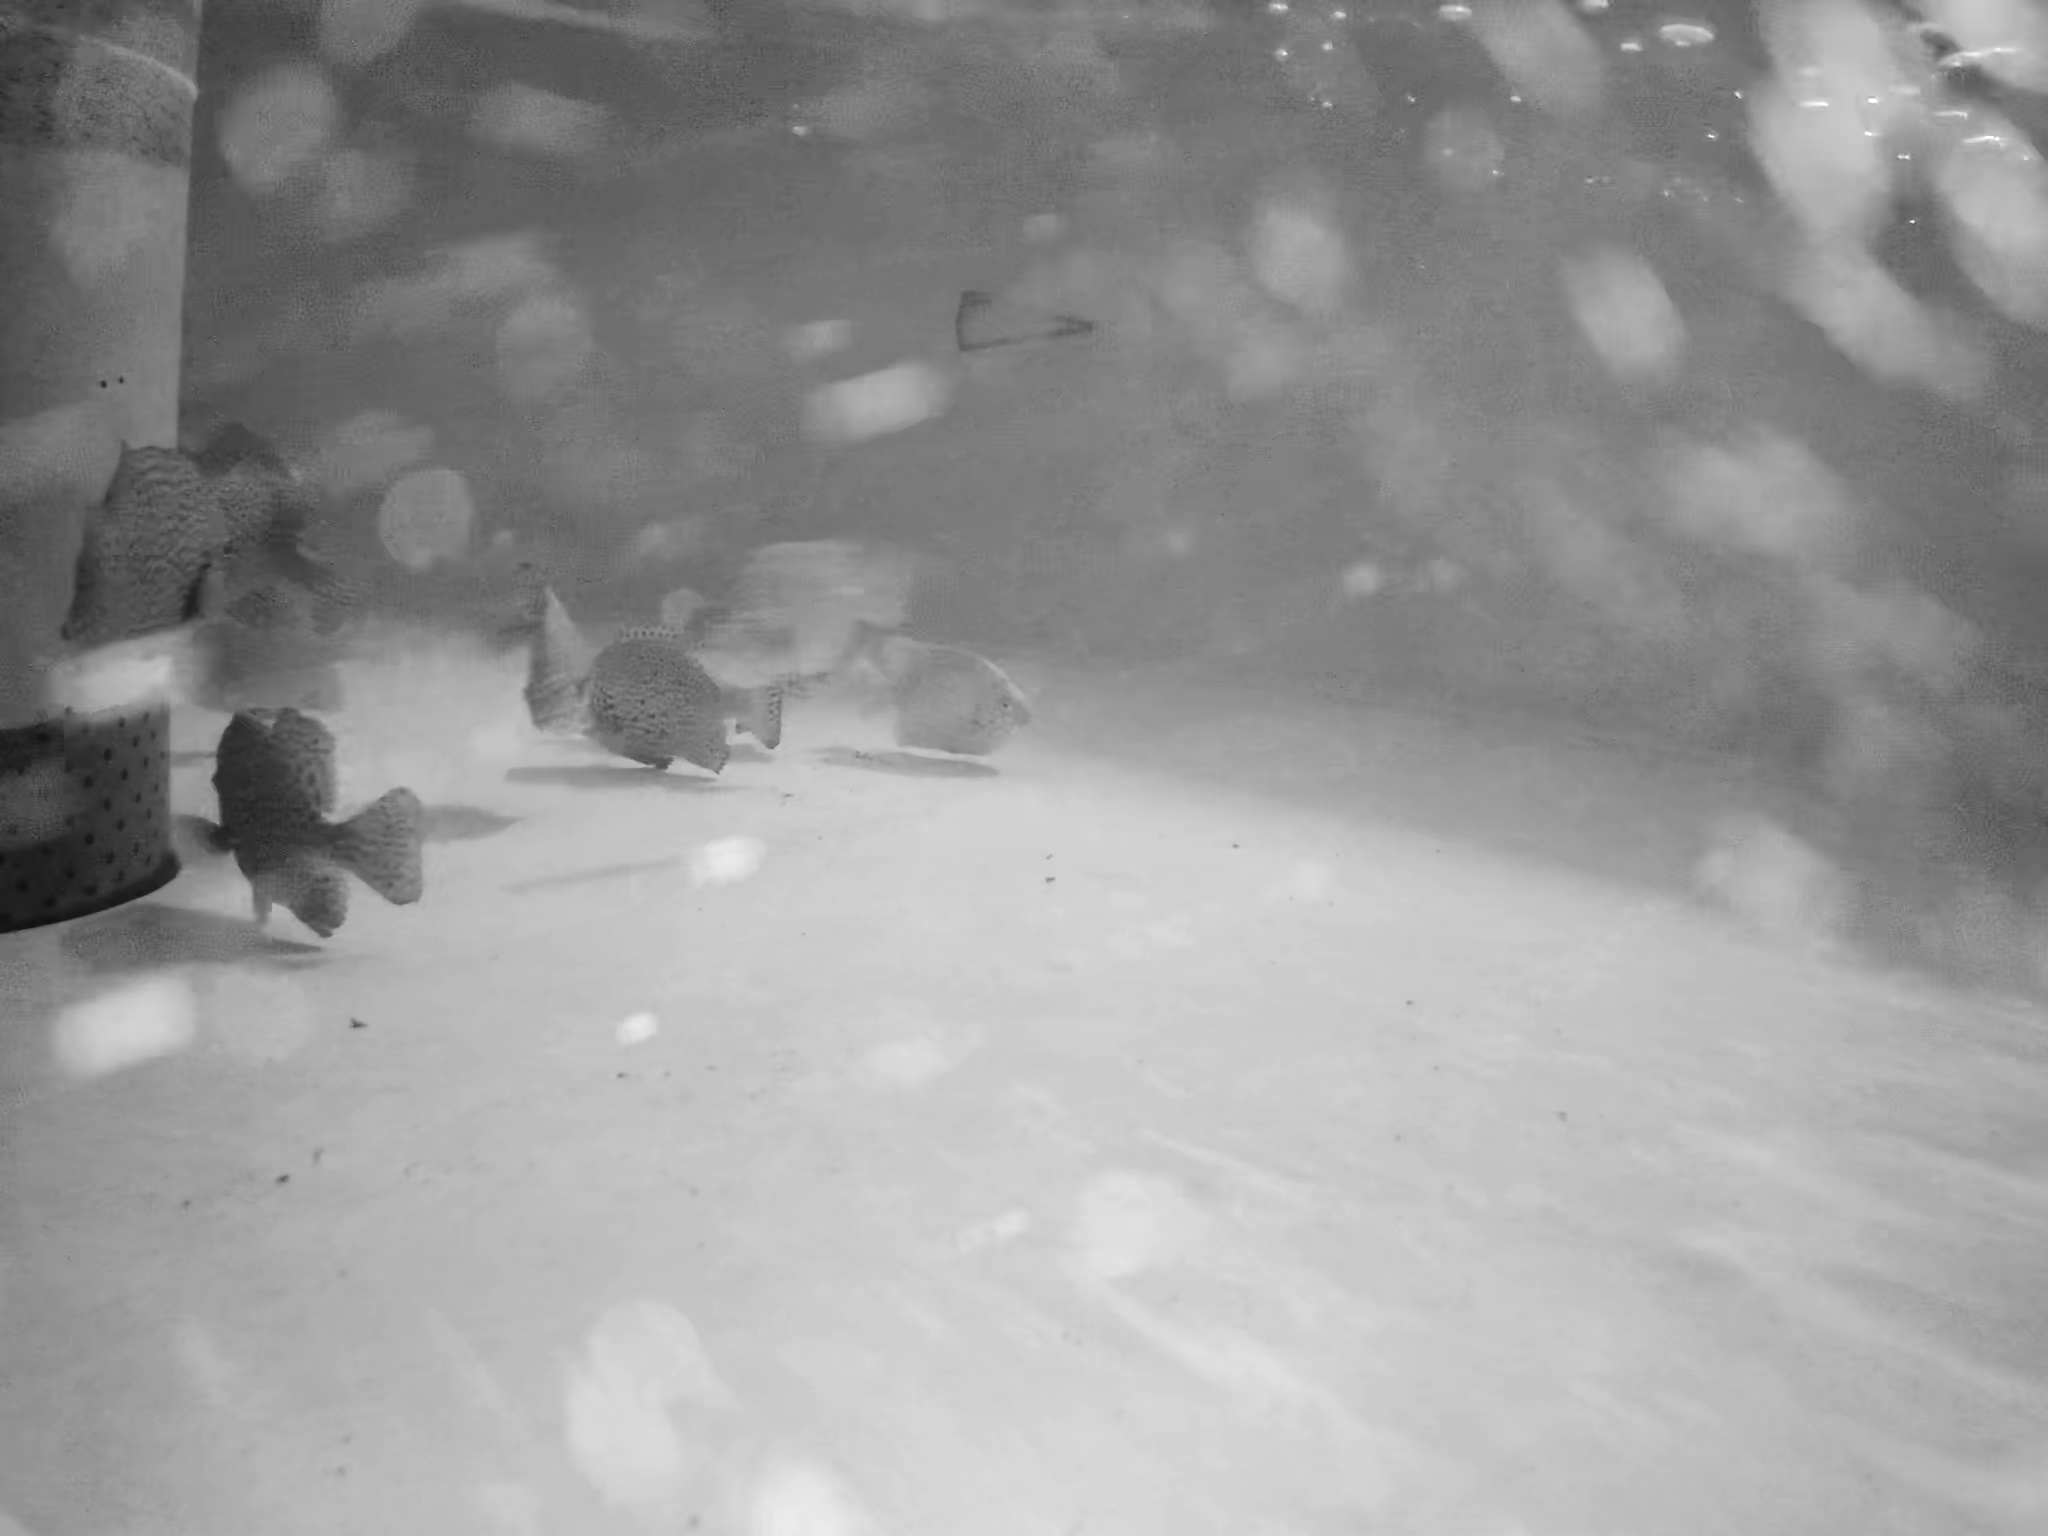fish: (194, 695, 435, 944), (73, 444, 258, 679), (187, 416, 360, 644), (572, 624, 793, 774), (727, 534, 929, 676), (889, 631, 1035, 752), (510, 565, 585, 737)
